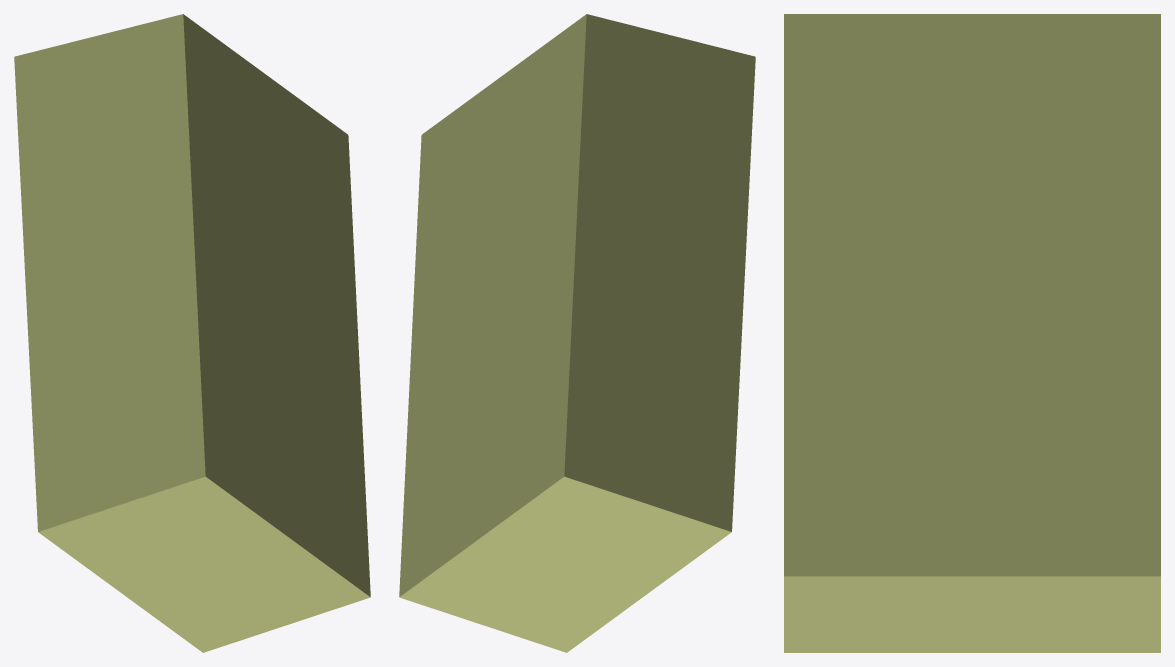
3 renders of one model, left to right at view 1: azimuth 30°, elevation 25°; view 2: azimuth 150°, elevation 25°; view 3: azimuth 270°, elevation 25°, orthographic. The views are drawn at different scales.
Visible parts, largest first — view 1: 0_1_2_0_0_2_3_1_1_0_2; view 2: 0_1_2_0_0_2_3_1_1_0_2; view 3: 0_1_2_0_0_2_3_1_1_0_2.
Part boxes in pixels (x1,y1,x2,y2): 0_1_2_0_0_2_3_1_1_0_2: (14, 14, 370, 652); 0_1_2_0_0_2_3_1_1_0_2: (399, 14, 755, 652); 0_1_2_0_0_2_3_1_1_0_2: (784, 14, 1160, 652).
Size of the model in its own units: 4.02 by 9.67 by 6.
